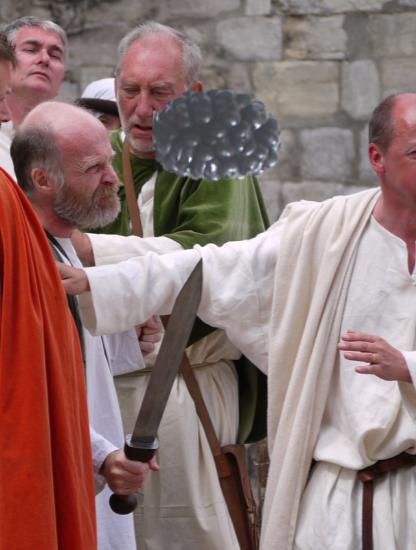Mulberry: (152, 71, 284, 203)
